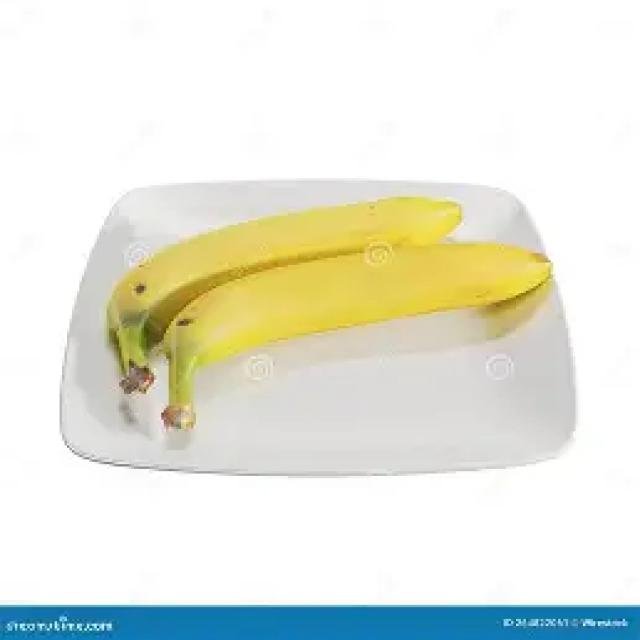BANANA: (107, 194, 552, 429)
